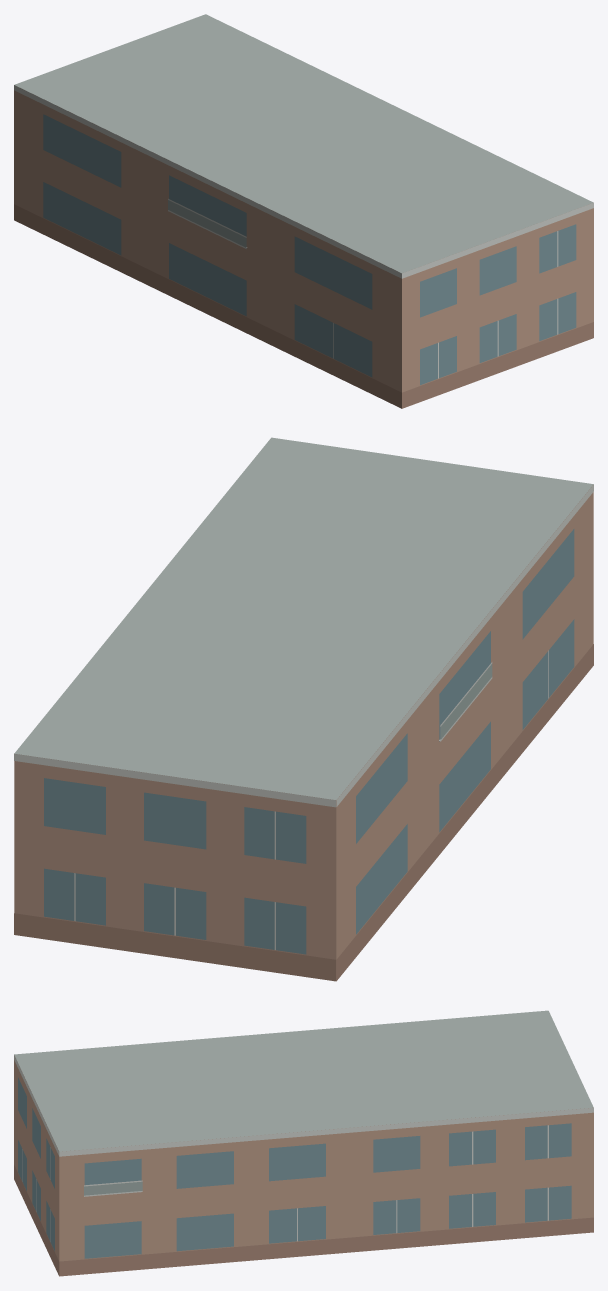
Rendered from survey-upis-32708437.glb.
3 views of the same model, one above another, from view 1: azimuth 30°, elevation 25°; view 2: azimuth 150°, elevation 25°; view 3: azimuth 270°, elevation 25° (orthographic). The views are drawn at different scales.
Parts seen in each view (by area): view 1: survey-upis-32708437.tmp; view 2: survey-upis-32708437.tmp; view 3: survey-upis-32708437.tmp.
Boxes of the visible parts, left/top/right/bottom form: survey-upis-32708437.tmp: left=14, top=14, right=593, bottom=408; survey-upis-32708437.tmp: left=14, top=437, right=593, bottom=981; survey-upis-32708437.tmp: left=14, top=1010, right=593, bottom=1276.
Size of the model in its own units: 14.82 by 6.1 by 25.71.
